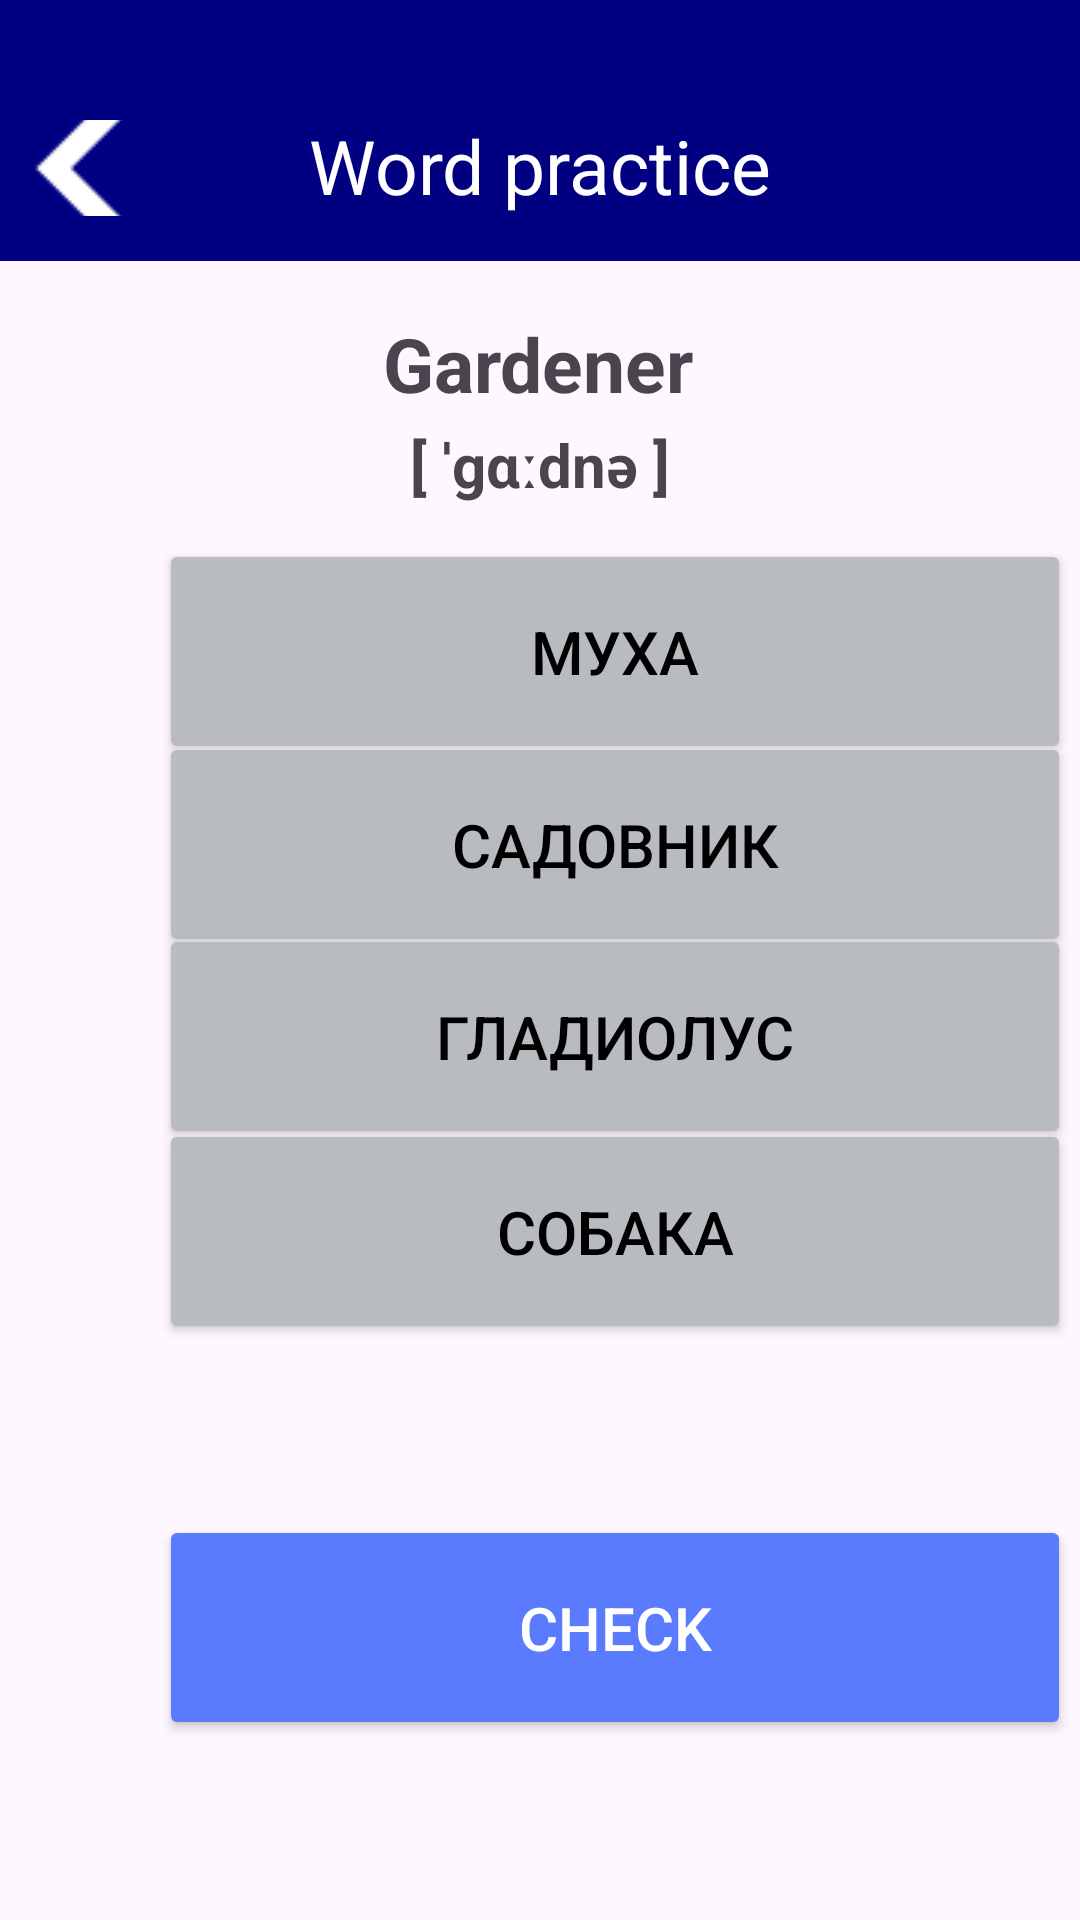

Named icons in this screenshot (1080px x 1920px) and their bounding boxes, Rect(x1, y1, x2, y2):
back: Rect(35, 120, 122, 216)
